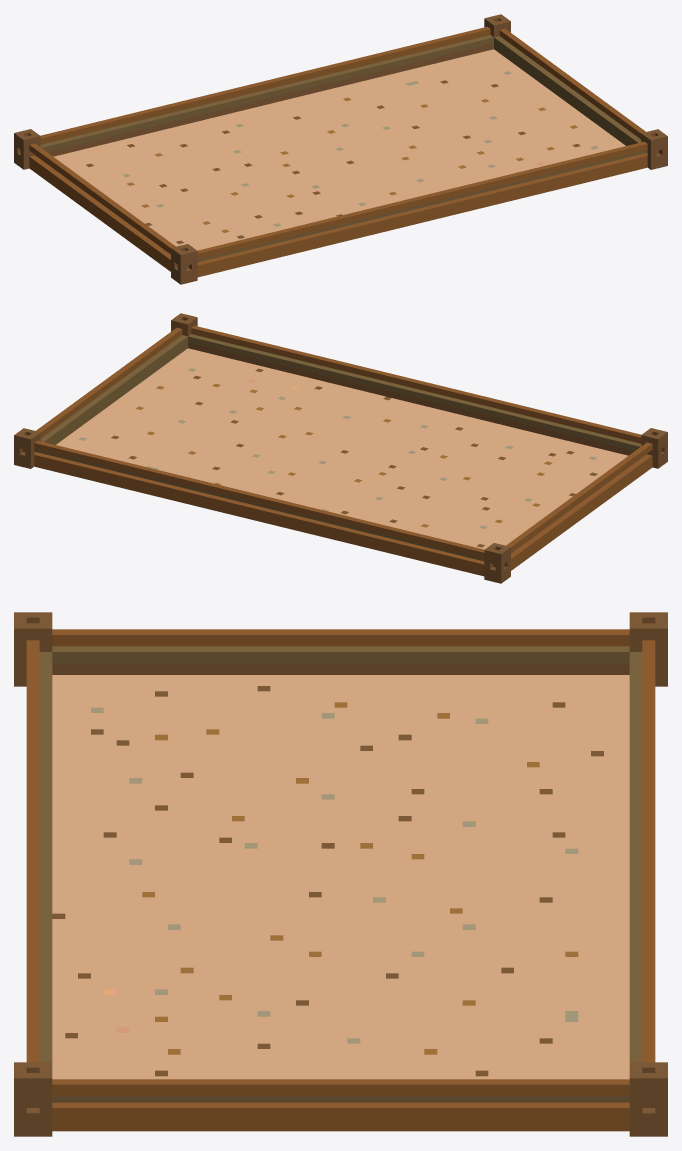
File: CorkBoard.obj
3 renders of one model, top to bottom at view 1: azimuth 30°, elevation 25°; view 2: azimuth 150°, elevation 25°; view 3: azimuth 270°, elevation 25°, orthographic. The views are drawn at different scales.
Bounding box in the file's own units: 86 × 5 × 51.
1 material, 1 textured.
